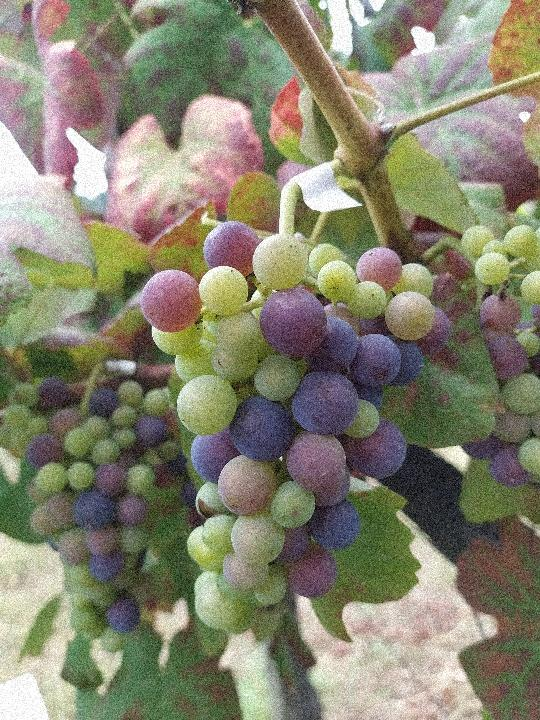grape: (136, 217, 455, 638)
